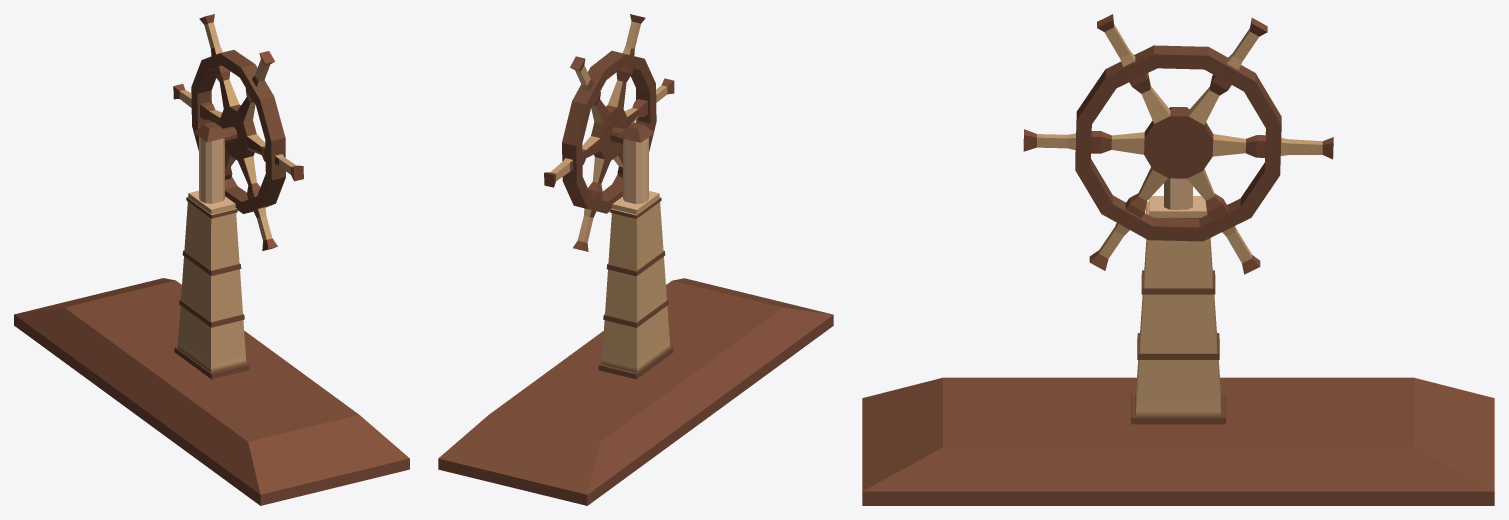
Rendered from Helm_Colored.fbx.
3 renders of one model, left to right at view 1: azimuth 30°, elevation 25°; view 2: azimuth 150°, elevation 25°; view 3: azimuth 270°, elevation 25°, orthographic. The views are drawn at different scales.
Parts seen in each view (by area): view 1: Cube, Cylinder, Cylinder.001; view 2: Cube, Cylinder, Cylinder.001; view 3: Cube, Cylinder, Cylinder.001.
Part boxes in pixels (<box>): Cube: <box>14,122,409,505</box>; Cylinder: <box>173,14,303,250</box>; Cylinder.001: <box>191,50,285,213</box>; Cube: <box>438,122,833,505</box>; Cylinder: <box>544,14,674,251</box>; Cylinder.001: <box>562,51,656,213</box>; Cube: <box>862,107,1494,505</box>; Cylinder: <box>1023,14,1333,274</box>; Cylinder.001: <box>1075,45,1281,241</box>.
Size of the model in its own units: 269 by 615 by 768.
Materials: 3 (3 with a texture image).
